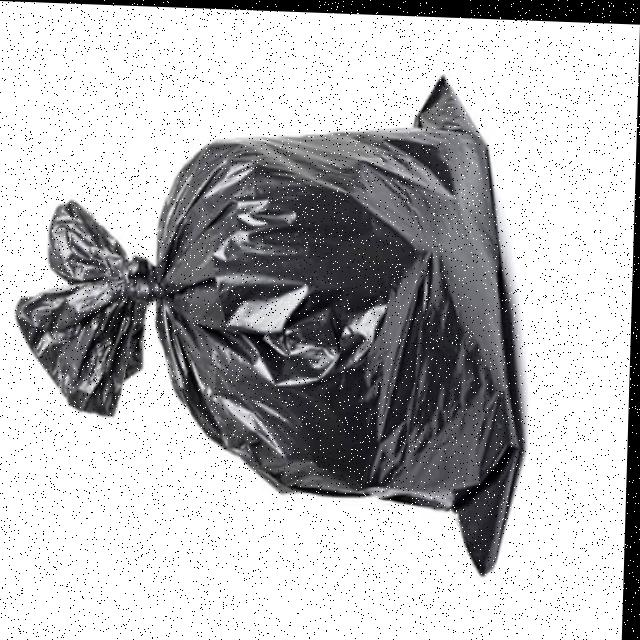black_plastic_bag: (3, 55, 537, 585)
